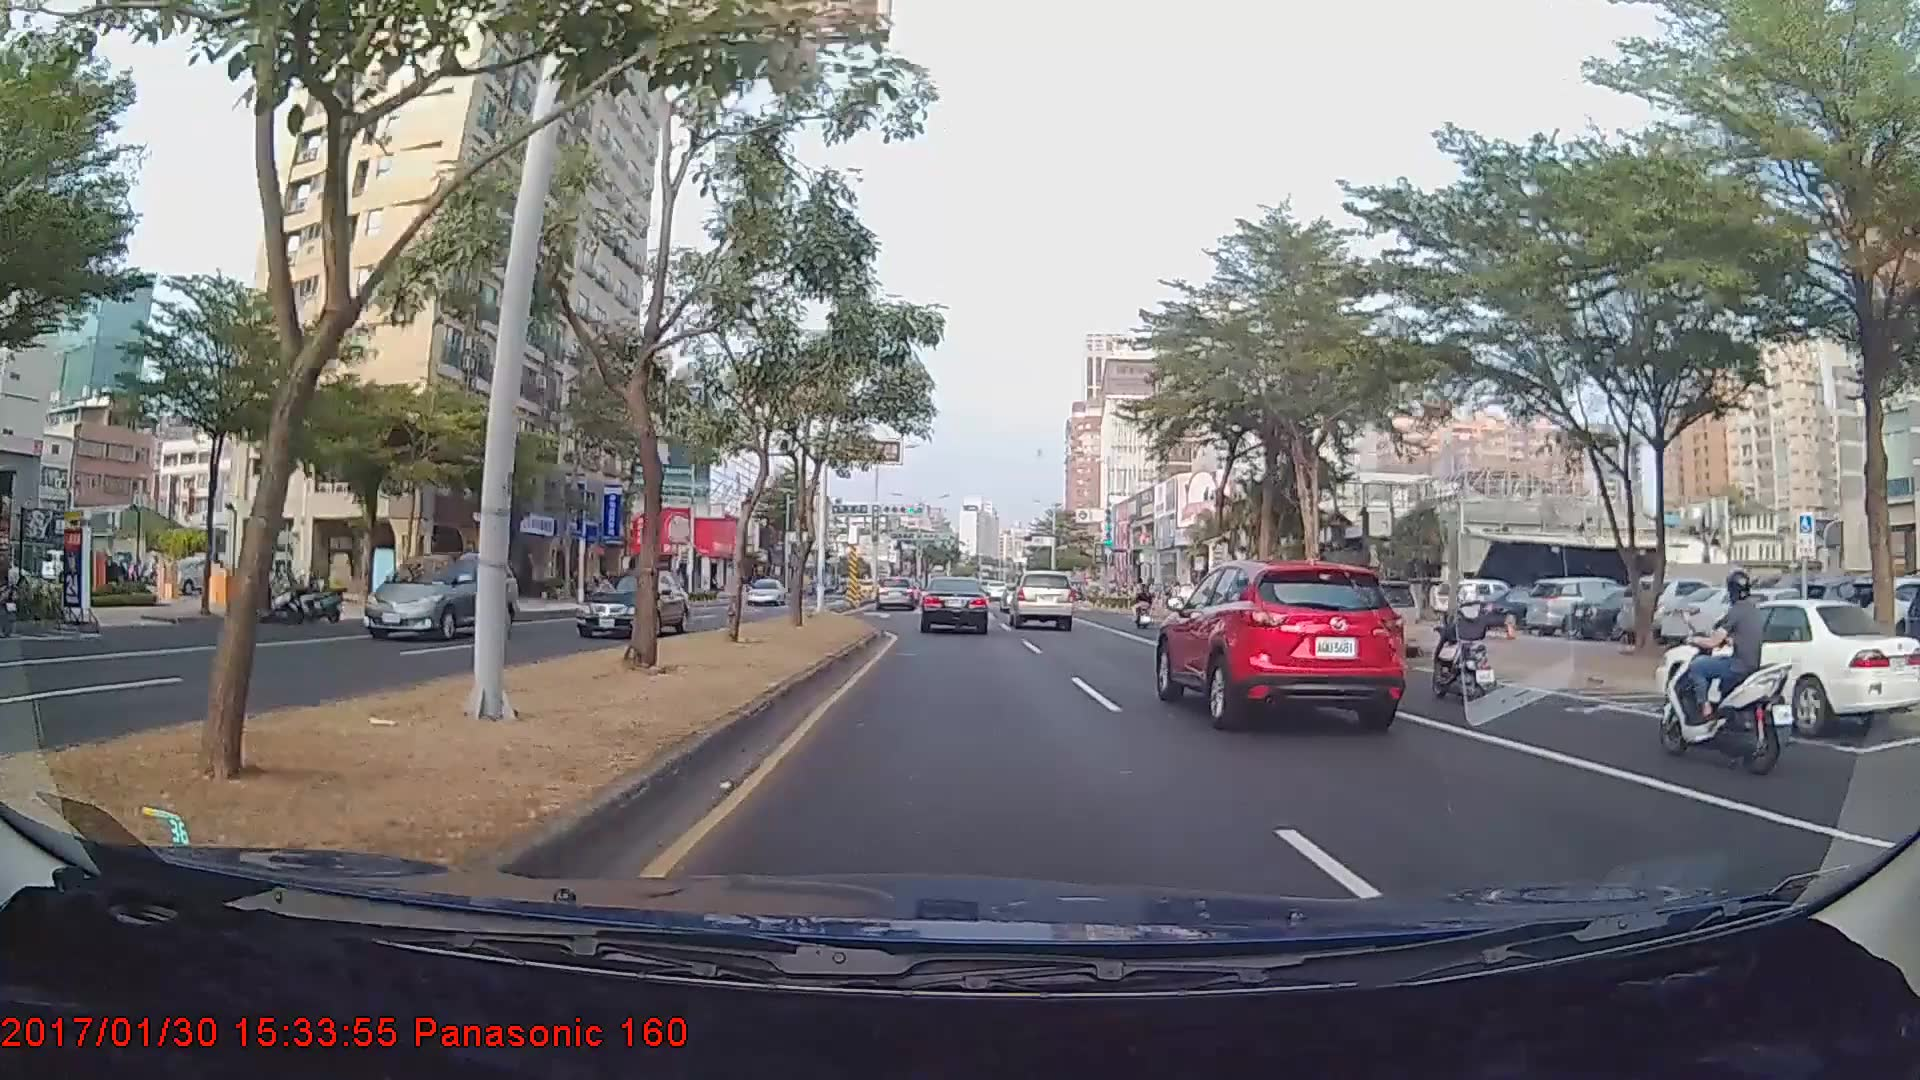rider: (1649, 555, 1801, 771), (1417, 576, 1506, 703), (1133, 577, 1160, 627)
vehicle: (1152, 553, 1404, 730), (1649, 599, 1920, 735), (361, 552, 517, 640), (576, 567, 691, 641), (1323, 579, 1421, 660), (1522, 573, 1643, 636), (919, 575, 990, 635), (1006, 569, 1074, 631), (875, 574, 920, 612), (746, 574, 783, 603)
